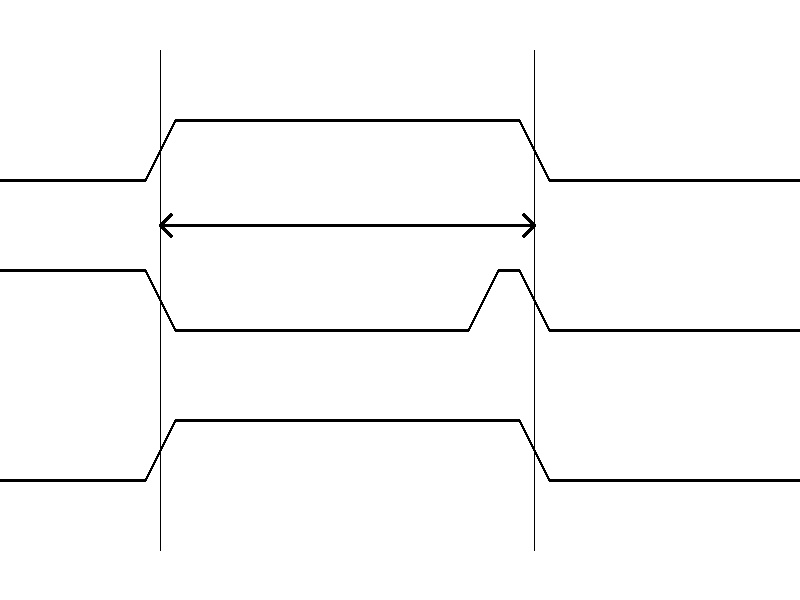double_arrow: (160, 210, 534, 240)
